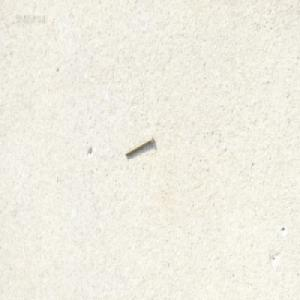Bolt: (124, 134, 153, 156)
